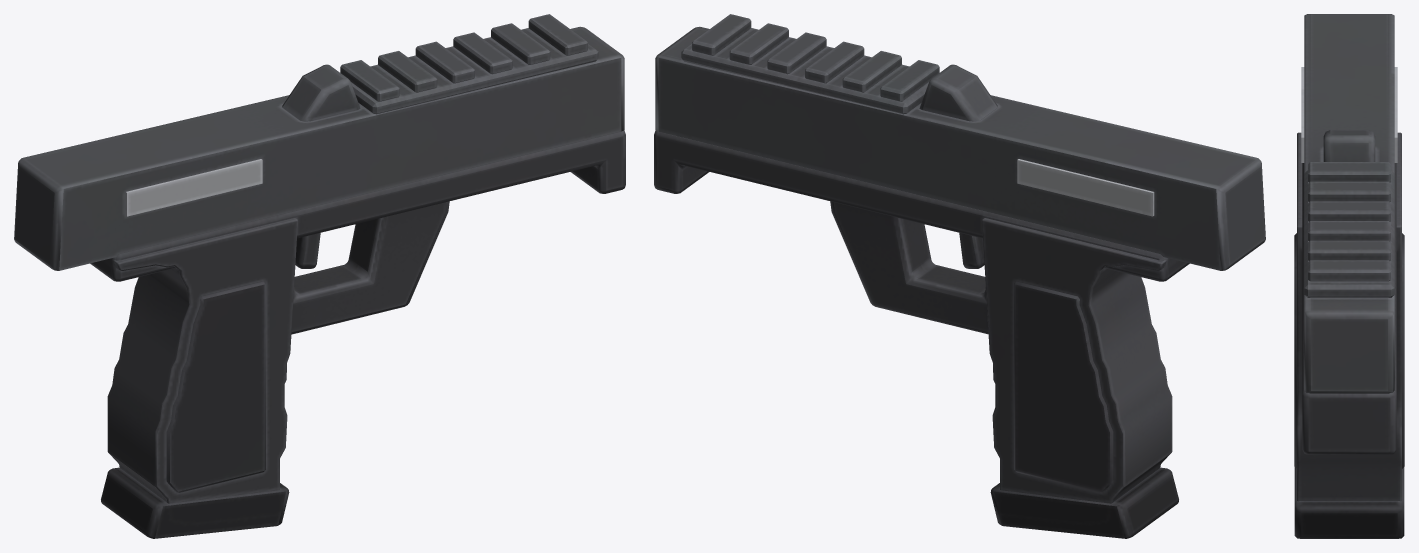
File: AT_VikorS1.fbx
3 renders of one model, left to right at view 1: azimuth 30°, elevation 25°; view 2: azimuth 150°, elevation 25°; view 3: azimuth 270°, elevation 25°, orthographic. The views are drawn at different scales.
Parts seen in each view (by area): view 1: AT_VikorS1; view 2: AT_VikorS1; view 3: AT_VikorS1.
Part boxes in pixels (box(x1,y1,x2,y2)): AT_VikorS1: box(14, 14, 625, 538); AT_VikorS1: box(654, 14, 1265, 538); AT_VikorS1: box(1294, 14, 1404, 538).
Bounding box in the file's own units: 0.1649 × 0.1144 × 0.0257.
Materials: 1 (1 with a texture image).
